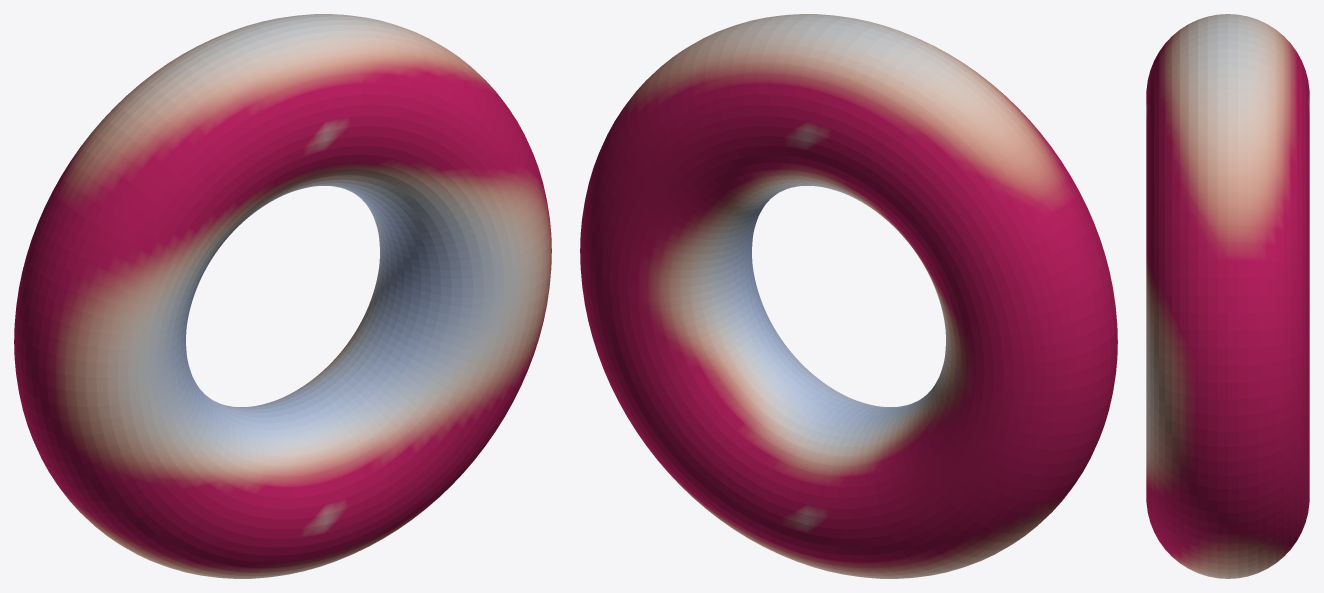
3 views of the same model, side by side, from view 1: azimuth 30°, elevation 25°; view 2: azimuth 150°, elevation 25°; view 3: azimuth 270°, elevation 25° (orthographic). The views are drawn at different scales.
Visible parts, largest first — view 1: world; view 2: world; view 3: world.
Part boxes in pixels (box(x1,y1,x2,y2)): world: box(14, 14, 551, 578); world: box(580, 14, 1117, 578); world: box(1146, 14, 1309, 578).
Bounding box in the file's own units: 27.2 × 27.2 × 7.85.
